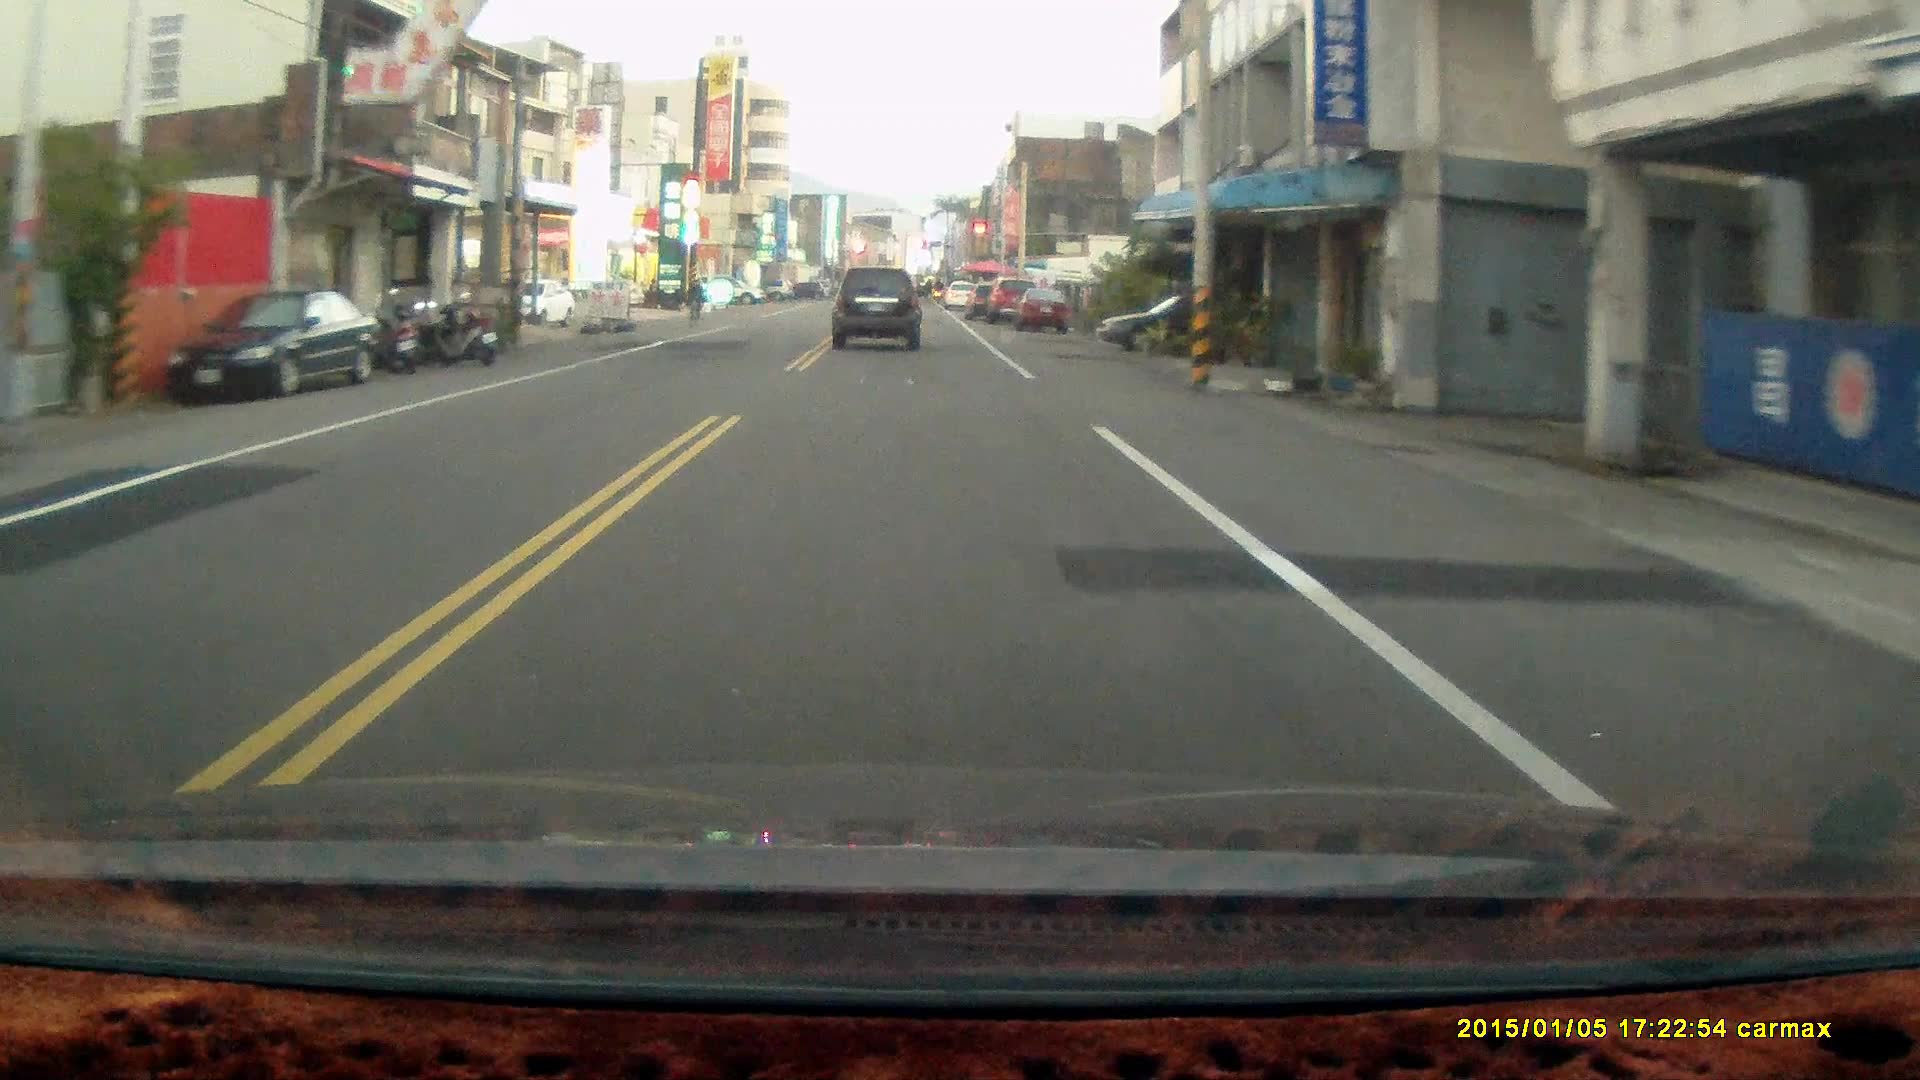rider: (681, 276, 705, 329)
vehicle: (166, 290, 381, 404), (832, 264, 925, 353), (484, 280, 576, 328)
